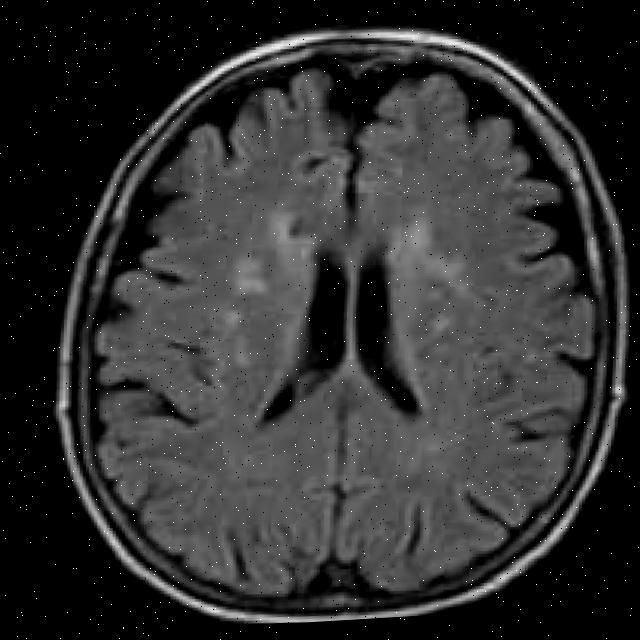NoTumor: (36, 0, 640, 638)
